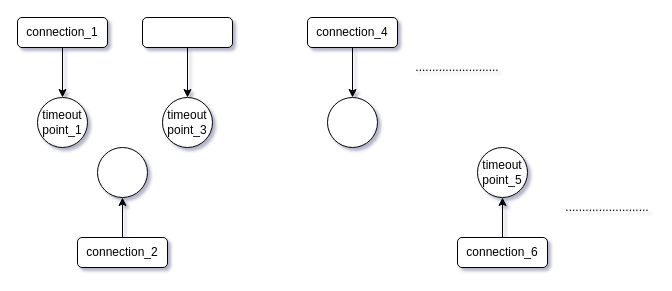
The diagram is 672 pixels wide and 291 high, and some of its shapes have lost their labels. Here are the shapes that lost their labels. From the top down, the box of each, then its label:
(142, 16, 232, 48): connection_3
(326, 96, 378, 148): timeout point_4
(96, 146, 148, 198): timeout point_2
